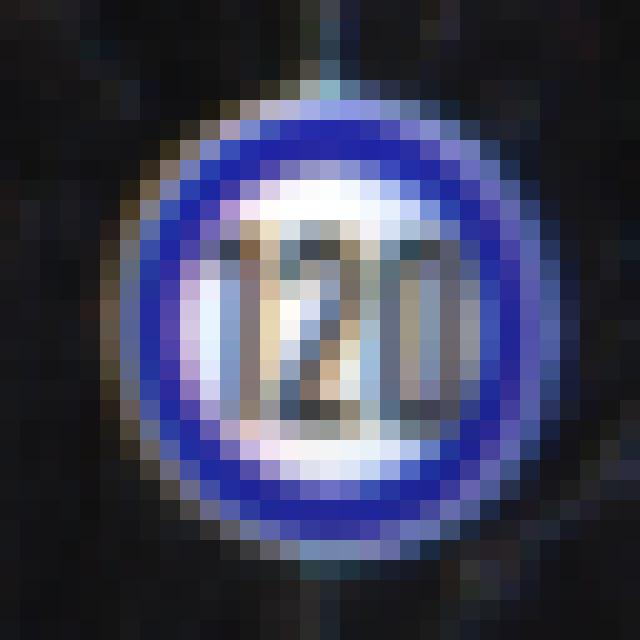SPEED LIMIT 120: (77, 84, 577, 562)
